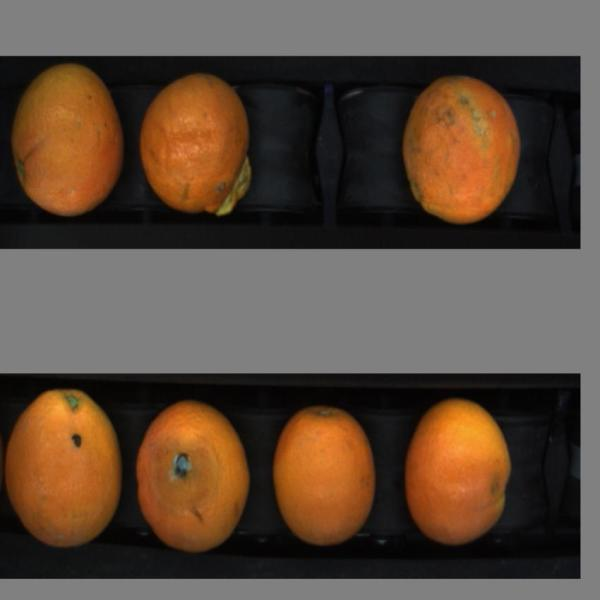Otros defectos: (386, 76, 534, 229), (131, 66, 263, 230), (128, 397, 259, 555), (4, 386, 127, 552), (4, 64, 130, 213), (402, 396, 519, 548), (268, 402, 384, 545)
